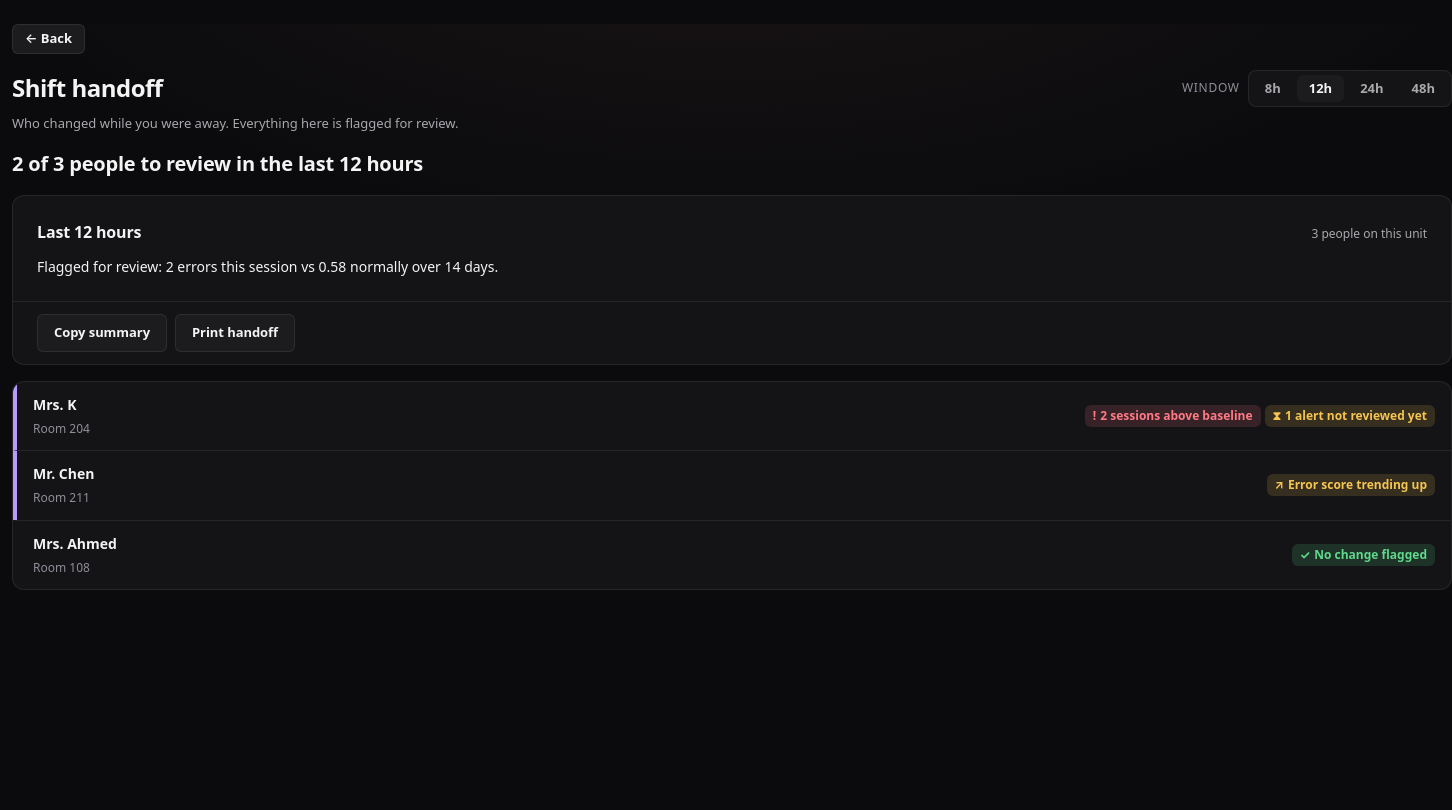
Handoff › refetches when the nurse picks another window
The width and height of the screenshot is (1452, 810).
Expected: the text "Flagged for review: 2 errors this session vs 0.58 normally over 14 days." is shown, [37, 256, 518, 277]
What coordinates should you click on to do the following:
click the button "24h"
I would click on:
 (1372, 88)
Its box is [1348, 74, 1396, 102].
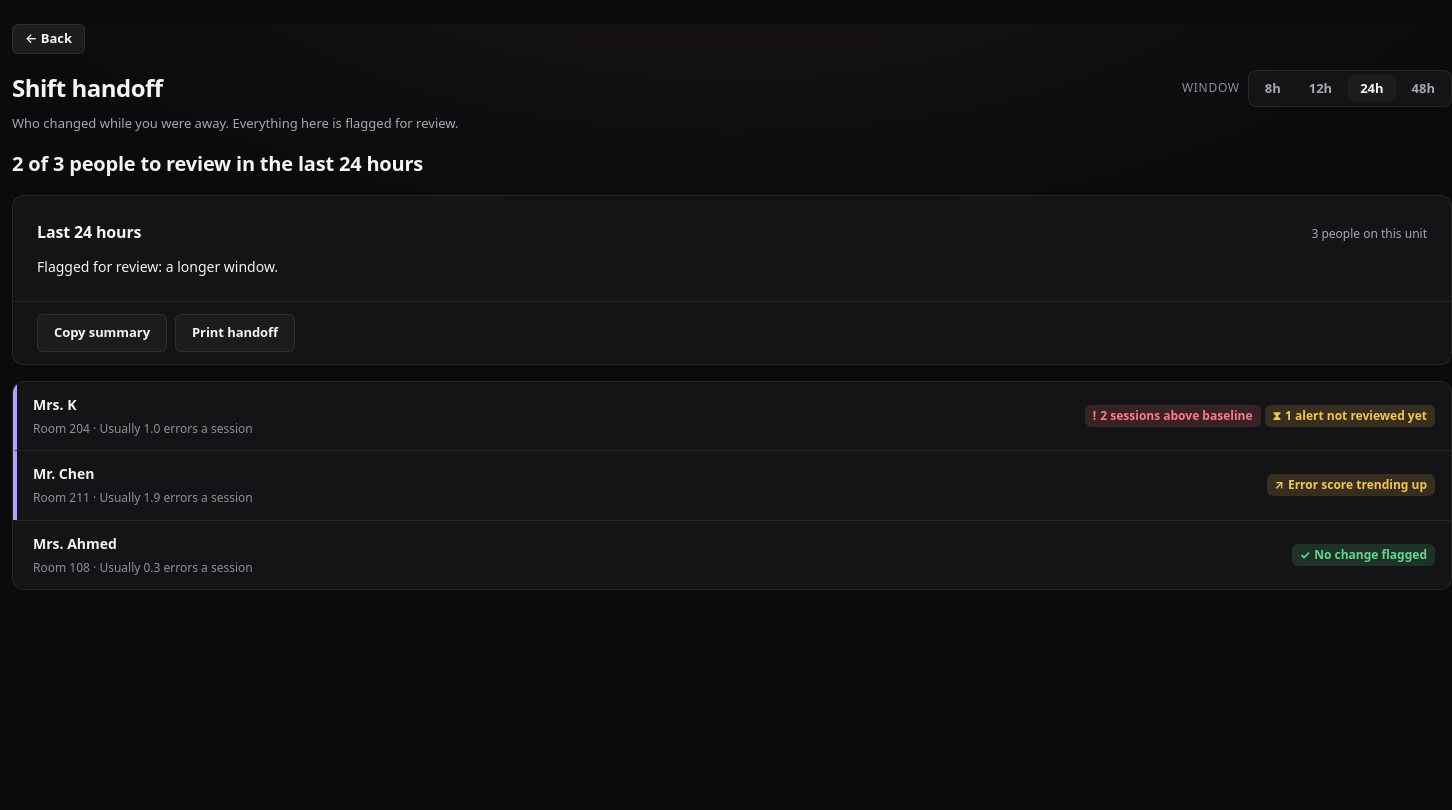
Result: the text "Flagged for review: a longer window." is shown at [37, 257, 278, 276]
Result: the heading "Last 24 hours" is shown at [37, 220, 141, 244]
